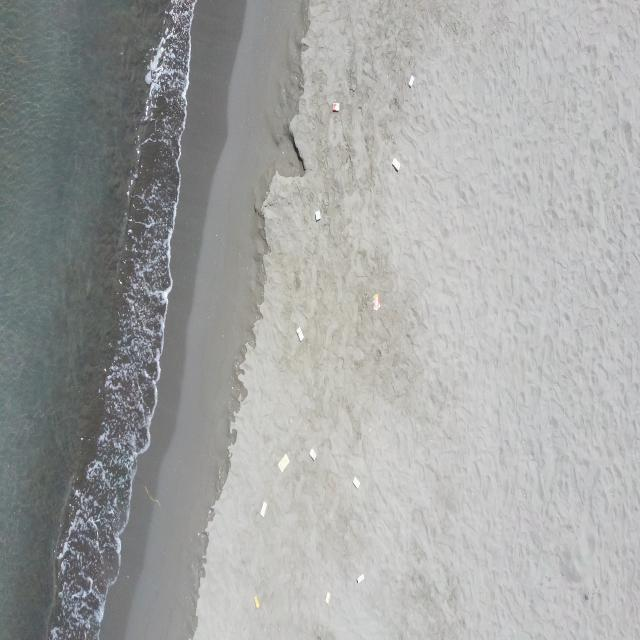Garbage: (278, 452, 288, 471), (372, 292, 380, 310), (260, 500, 267, 516), (308, 448, 316, 460), (392, 158, 399, 171), (296, 327, 303, 340), (352, 475, 359, 487), (253, 595, 260, 607), (332, 101, 339, 111), (356, 573, 363, 583), (407, 76, 413, 87), (314, 210, 320, 220), (324, 592, 329, 604)
